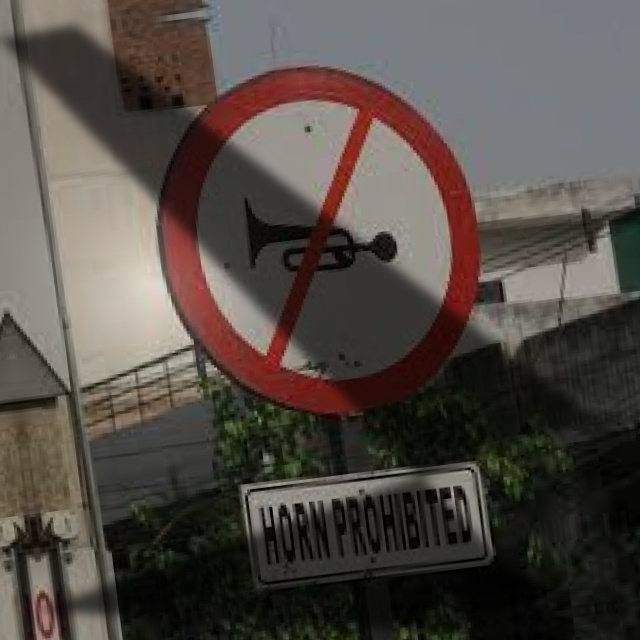Horn_Prohibited: (153, 49, 496, 429)
